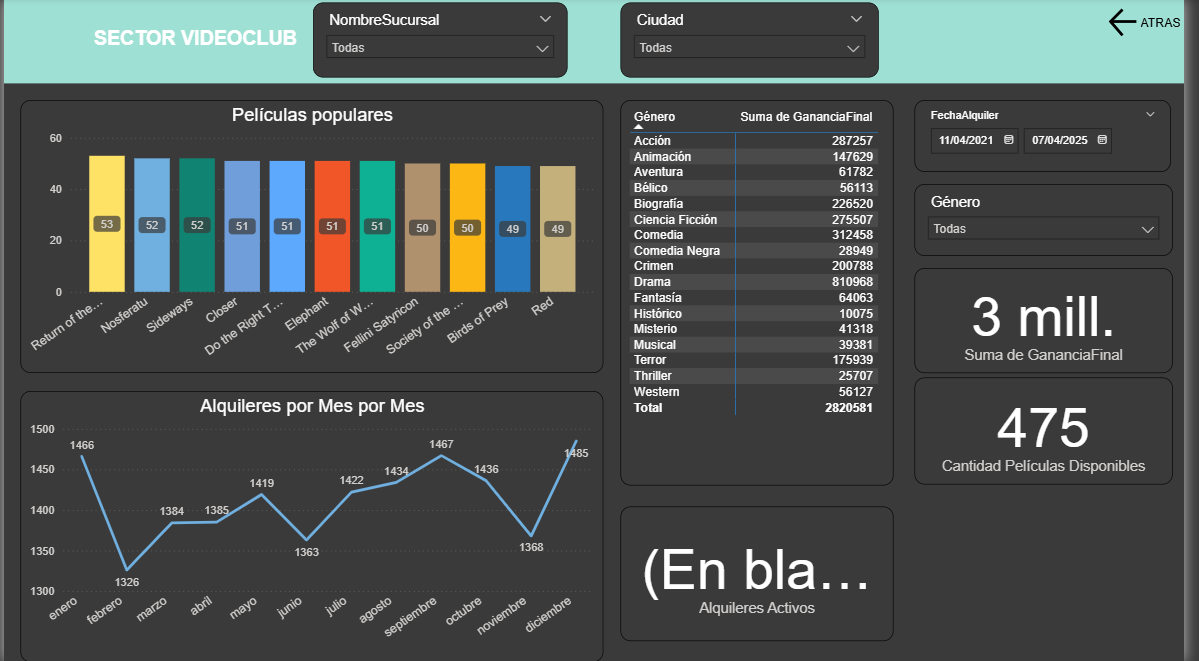

The page's visual inventory and layout, read from the dashboard file:
{"tool":"powerbi","page":{"name":"Datos Videoclub","canvas":[1280,720],"ordinal":1},"visuals":[{"type":"shape","box":[0,0,1281.3,92.6],"z":0},{"type":"textbox","box":[28.2,26.5,294.9,46.4],"z":1000},{"type":"slicer","fields":{"Values":["Sucursales.NombreSucursal"]},"box":[334.5,5.7,275.9,81.3],"z":2000},{"type":"slicer","fields":{"Values":["Ciudad.Ciudad"]},"box":[669,5.7,279.7,81.3],"z":3000},{"type":"lineStackedColumnComboChart","title":"Películas populares","fields":{"Category":["Peliculas.Título Original"],"Y":["CountNonNull(PeliculasAlquiladas.PeliculaID)"],"Series":["PeliculasAlquiladas.PeliculaID"]},"box":[18,110,632,296],"z":4000},{"type":"card","fields":{"Values":["Sum(PeliculasAlquiladas.GananciaFinal)"]},"box":[988,292,280,114],"z":5000},{"type":"card","fields":{"Values":["Count(Peliculas.PeliculaID)"]},"box":[988,412,280,116],"z":6000},{"type":"slicer","fields":{"Values":["GéneroPeliculas.Género"]},"box":[988,202,280,78],"z":7000},{"type":"slicer","fields":{"Values":["PeliculasAlquiladas.FechaAlquiler"]},"box":[988,110,278,78],"z":8000},{"type":"actionButton","box":[1194,6,86,40],"z":9000},{"type":"pivotTable","fields":{"Rows":["GéneroPeliculas.Género"],"Values":["Sum(PeliculasAlquiladas.GananciaFinal)"]},"box":[668,110,296,418],"z":10000},{"type":"lineChart","fields":{"Y":["PeliculasAlquiladas.Alquileres por Mes"],"Category":["PeliculasAlquiladas.FechaAlquiler.Variación.Jerarquía de fechas.Mes"]},"box":[18,426,632,294],"z":11000},{"type":"card","fields":{"Values":["PeliculasAlquiladas.Alquileres Activos"]},"box":[668,552,296,146],"z":12000}]}

Visuals, with their boxes in screenshot pixels (x1, y1, x2, y2), scaled from the page's 1280x720 canvas onto the 1199x661 screenshot:
shape: <box>0,0,1198,85</box>
textbox: <box>26,24,303,67</box>
slicer - Sucursales.NombreSucursal: <box>313,5,572,80</box>
slicer - Ciudad.Ciudad: <box>627,5,889,80</box>
"Películas populares" lineStackedColumnComboChart: <box>17,101,609,373</box>
card - Sum(PeliculasAlquiladas.GananciaFinal): <box>925,268,1188,373</box>
card - Count(Peliculas.PeliculaID): <box>925,378,1188,485</box>
slicer - GéneroPeliculas.Género: <box>925,185,1188,257</box>
slicer - PeliculasAlquiladas.FechaAlquiler: <box>925,101,1186,173</box>
actionButton: <box>1118,6,1198,42</box>
pivotTable - GéneroPeliculas.Género x Sum(PeliculasAlquiladas.GananciaFinal): <box>626,101,903,485</box>
lineChart - PeliculasAlquiladas.Alquileres por Mes x PeliculasAlquiladas.FechaAlquiler.Variación.Jerarquía de fechas.Mes: <box>17,391,609,660</box>
card - PeliculasAlquiladas.Alquileres Activos: <box>626,507,903,641</box>
